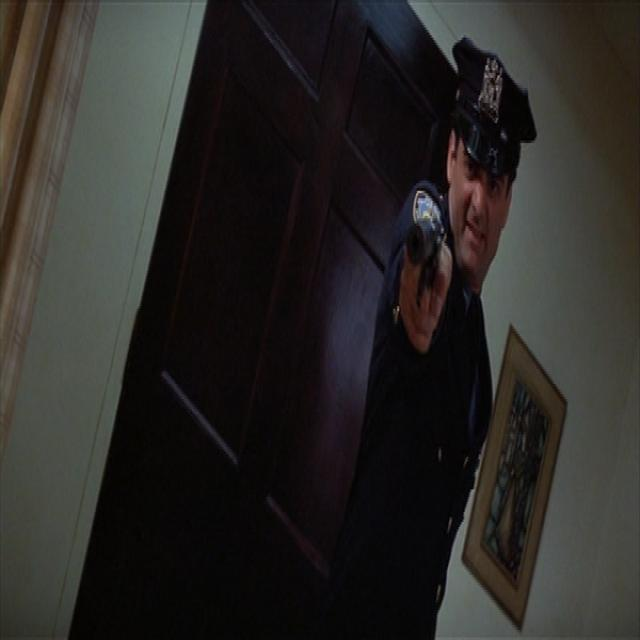weapons: (386, 157, 460, 363)
